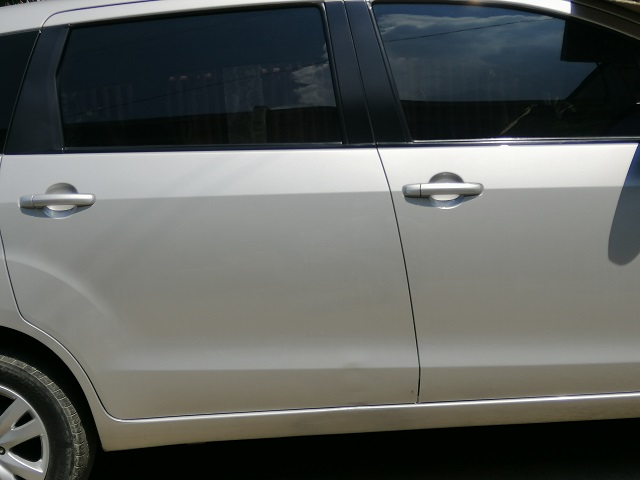car: (1, 4, 640, 426)
